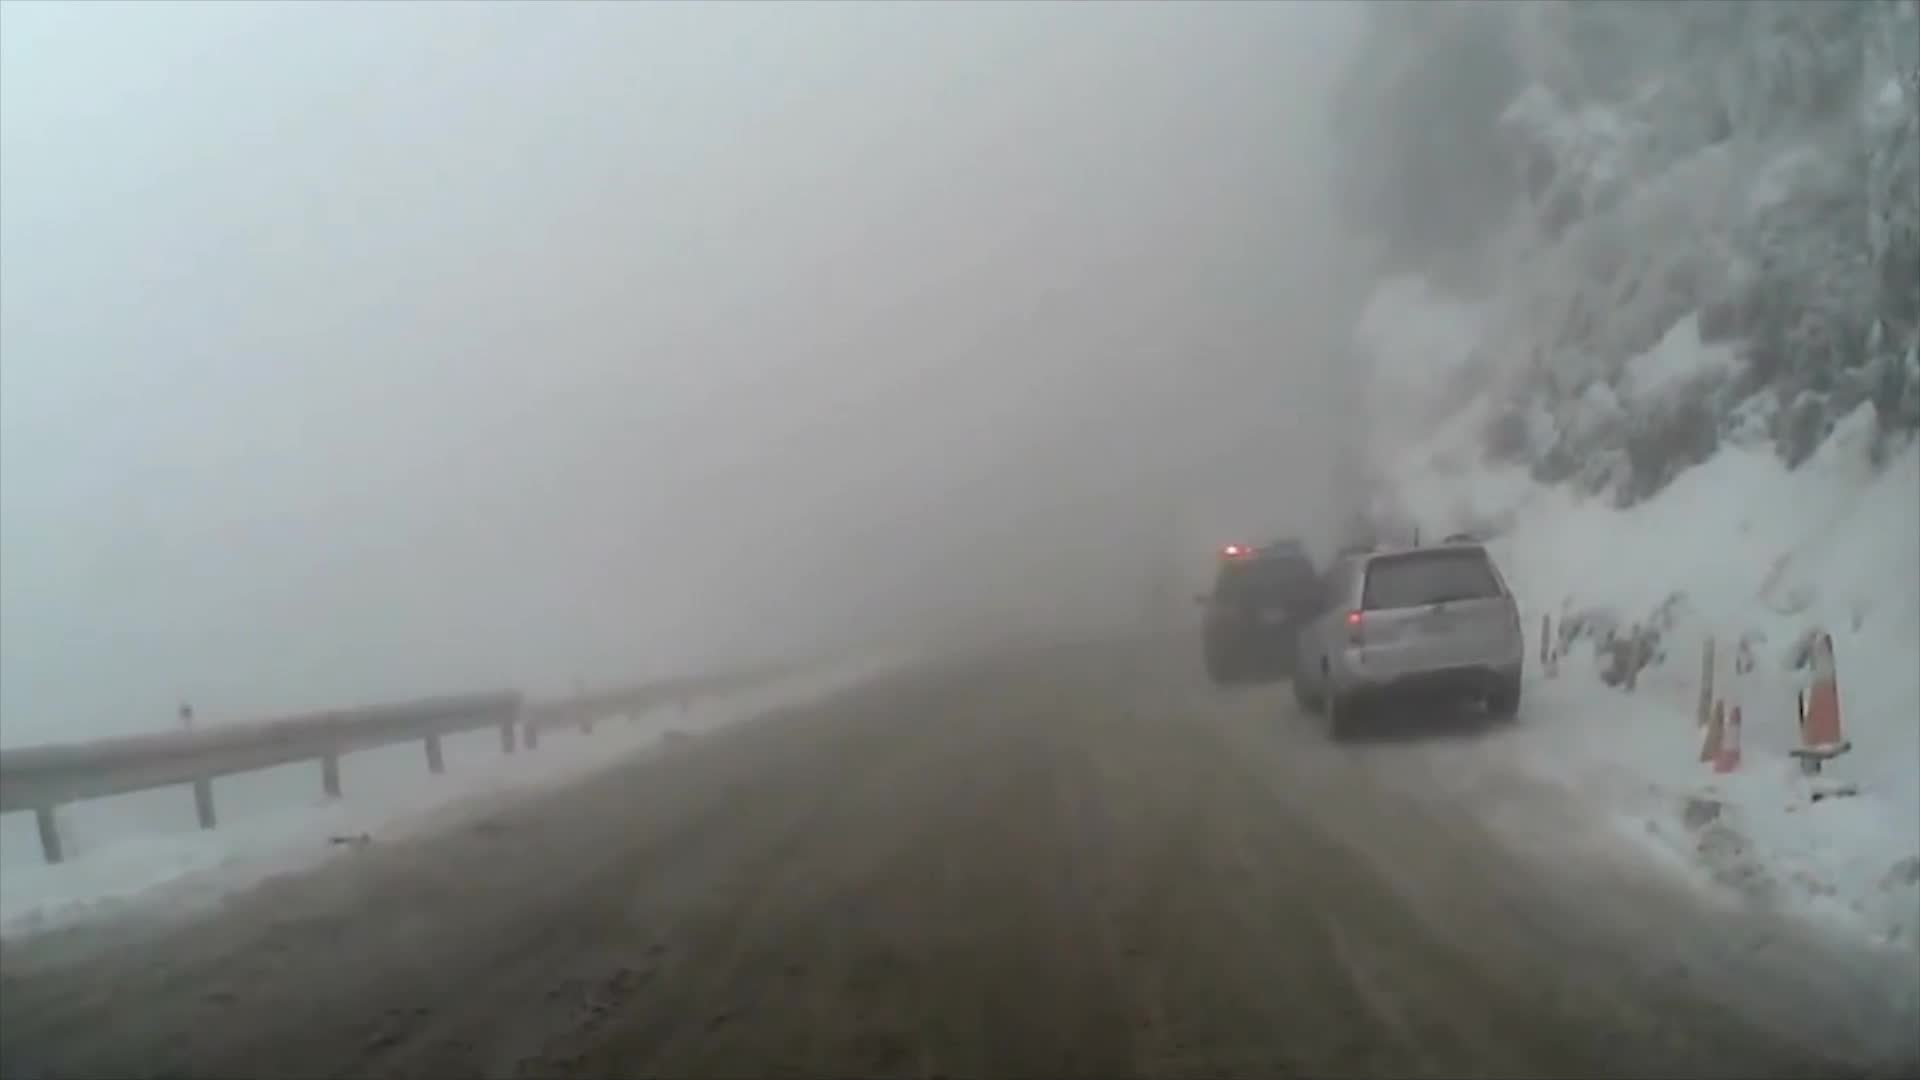vehicle: (1290, 530, 1523, 744), (1191, 538, 1335, 690)
